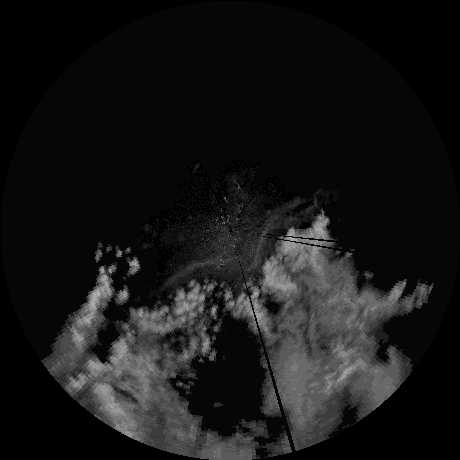frontgust: (252, 205, 317, 267), (165, 255, 239, 289)
